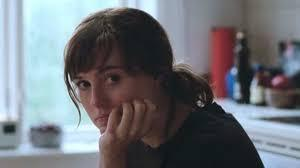Persons: (59, 16, 193, 146)
